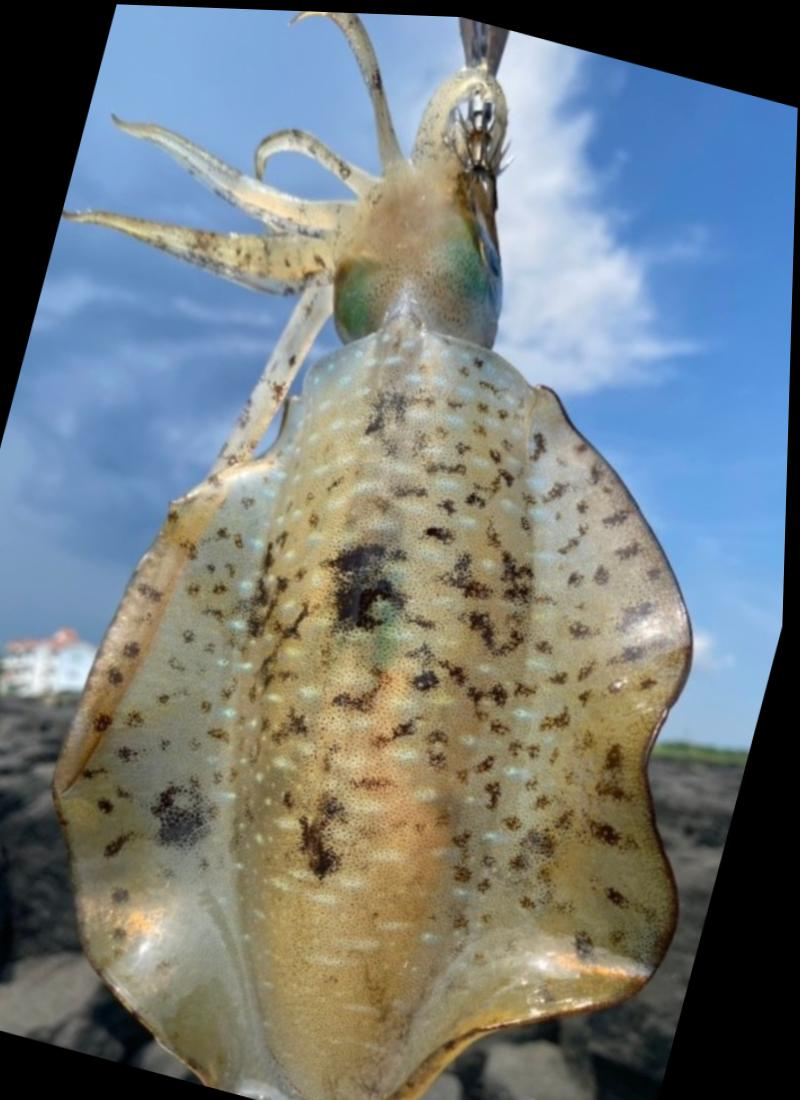Cephalopod: (59, 9, 696, 1100)
